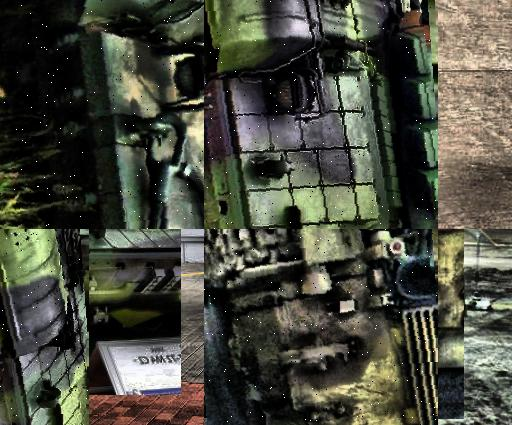tanks: (205, 1, 438, 230), (1, 1, 205, 230), (205, 230, 438, 425), (1, 230, 89, 425)
